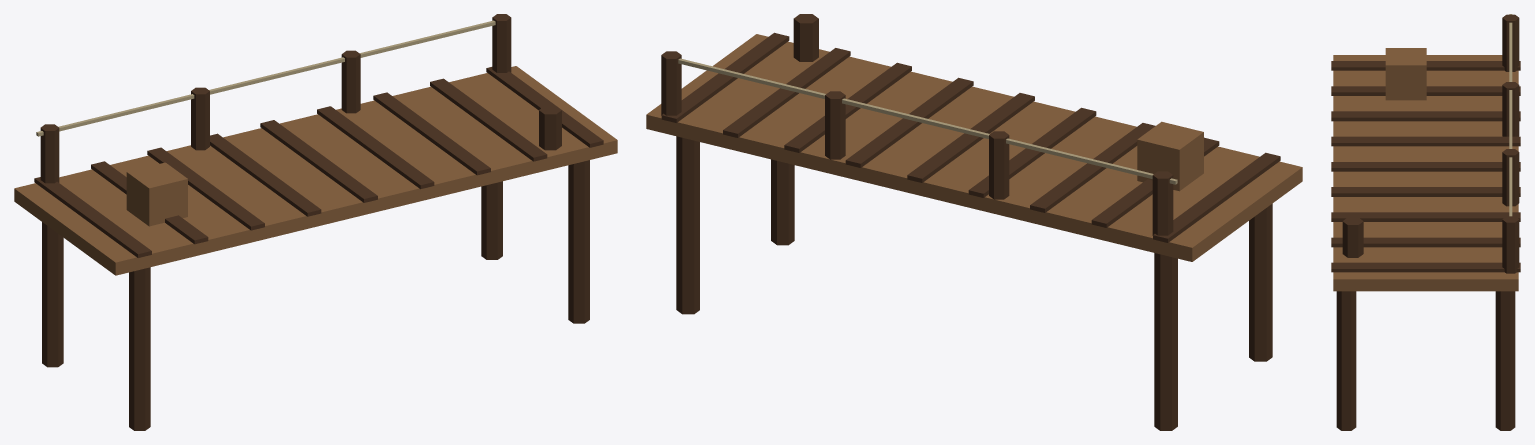
The model's file is prop_pier.glb.
The picture shows the model from 3 angles, left to right: view 1: azimuth 30°, elevation 25°; view 2: azimuth 150°, elevation 25°; view 3: azimuth 270°, elevation 25°; orthographic projection. The views are drawn at different scales.
Parts seen in each view (by area): view 1: prop_pier; view 2: prop_pier; view 3: prop_pier.
Boxes of the visible parts, <box> form: prop_pier: <box>14,14,617,430</box>; prop_pier: <box>646,14,1302,430</box>; prop_pier: <box>1331,14,1520,430</box>.
Size of the model in its own units: 8 by 3.56 by 2.86.
